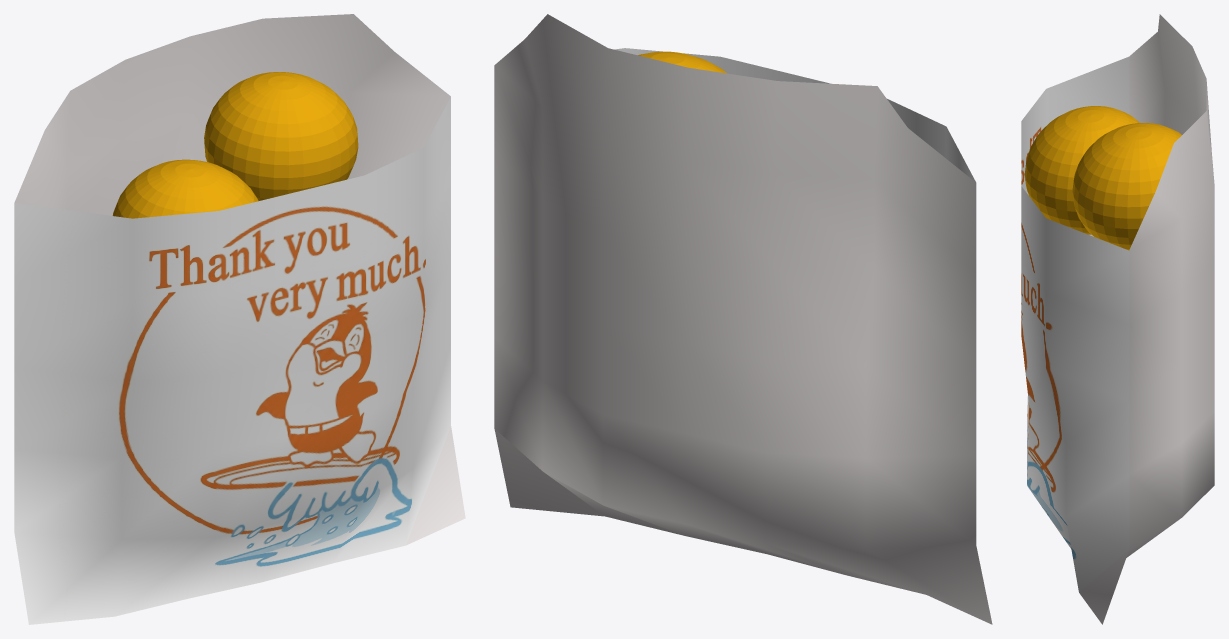
Rendered from sweetPotatoBalls.fbx.
3 views of the same model, side by side, from view 1: azimuth 30°, elevation 25°; view 2: azimuth 150°, elevation 25°; view 3: azimuth 270°, elevation 25° (orthographic). The views are drawn at different scales.
Visible parts, largest first — view 1: Plane, Sphere, Sphere.002; view 2: Plane, Sphere; view 3: Plane, Sphere, Sphere.002.
Part boxes in pixels (bbox=[...]): Plane: bbox=[14, 14, 465, 624]; Sphere: bbox=[204, 72, 358, 200]; Sphere.002: bbox=[112, 159, 258, 218]; Plane: bbox=[494, 14, 992, 624]; Sphere: bbox=[638, 51, 727, 73]; Plane: bbox=[1021, 14, 1214, 624]; Sphere: bbox=[1072, 123, 1181, 250]; Sphere.002: bbox=[1024, 106, 1139, 234].
Size of the model in its own units: 54.45 by 58.79 by 22.93.
